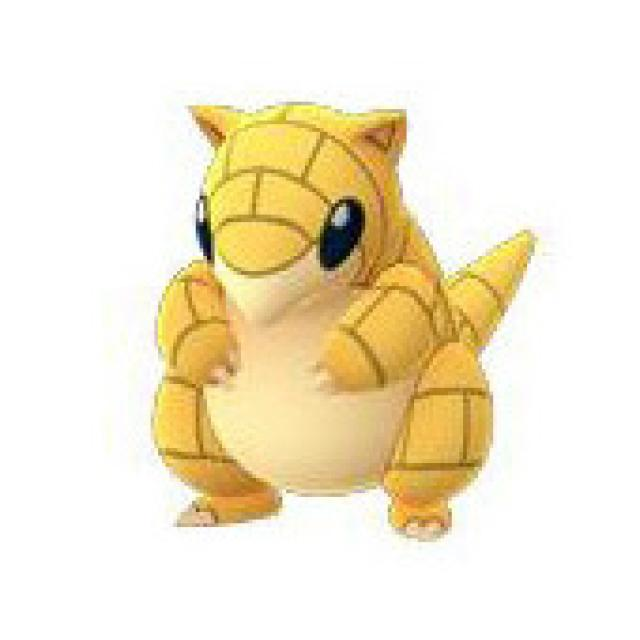Sandshrew: (152, 101, 505, 538)
